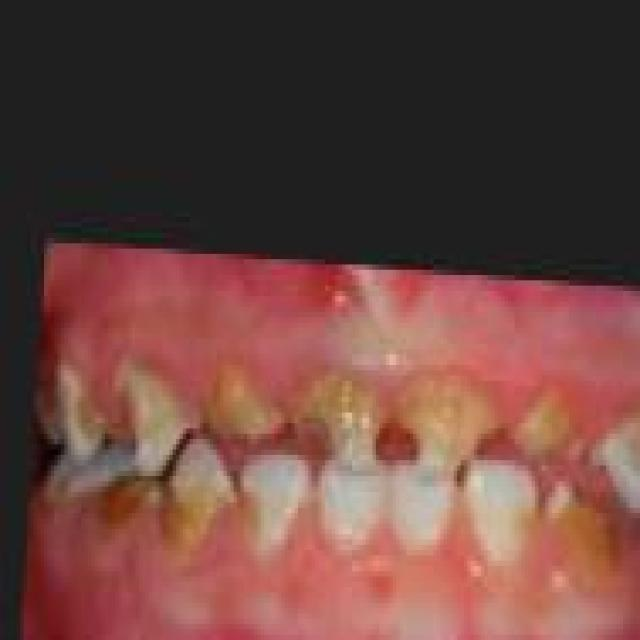caries: (390, 364, 496, 487), (160, 440, 238, 570), (297, 368, 383, 483), (539, 473, 617, 578), (120, 363, 191, 469), (54, 360, 112, 470), (207, 367, 288, 444), (507, 378, 569, 460), (101, 464, 171, 534)
